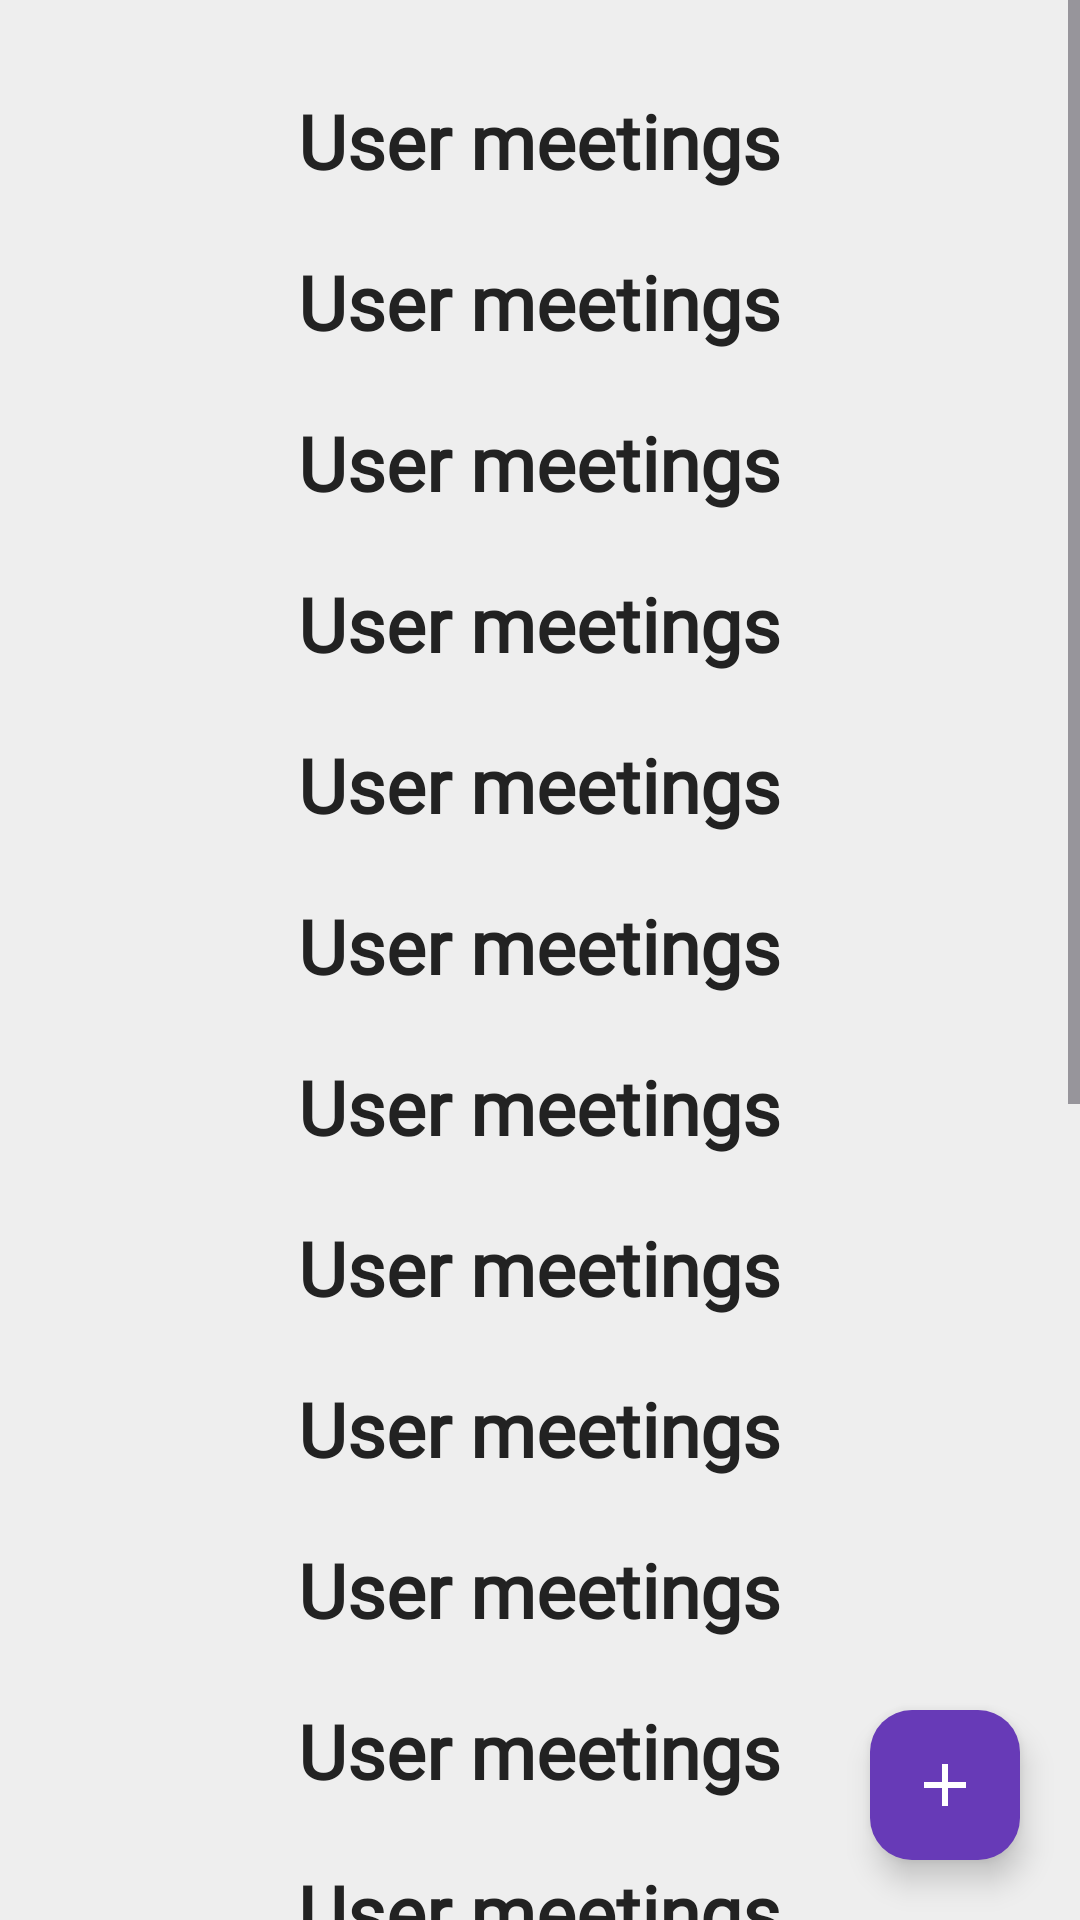

Where icons sit on this 1080px x 1920px app screen, as {"left": x1, "top": y1, "right": x2, "bottom": y2}:
Create note: {"left": 870, "top": 1710, "right": 1020, "bottom": 1860}
